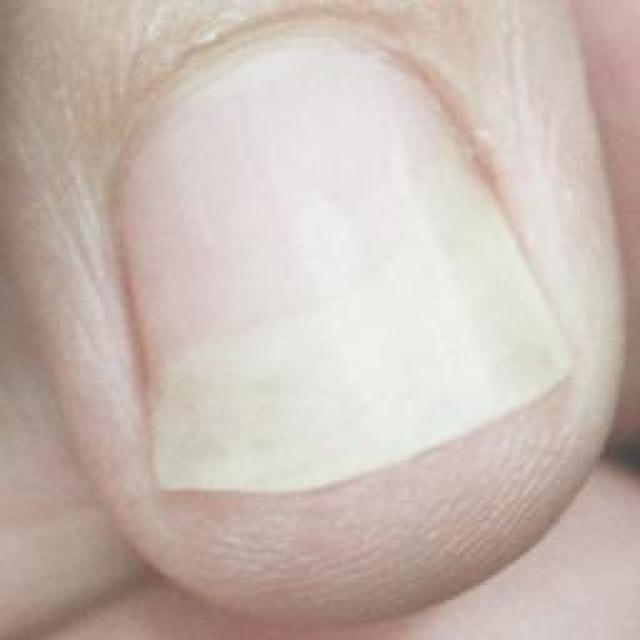Nail: (118, 43, 576, 496)
